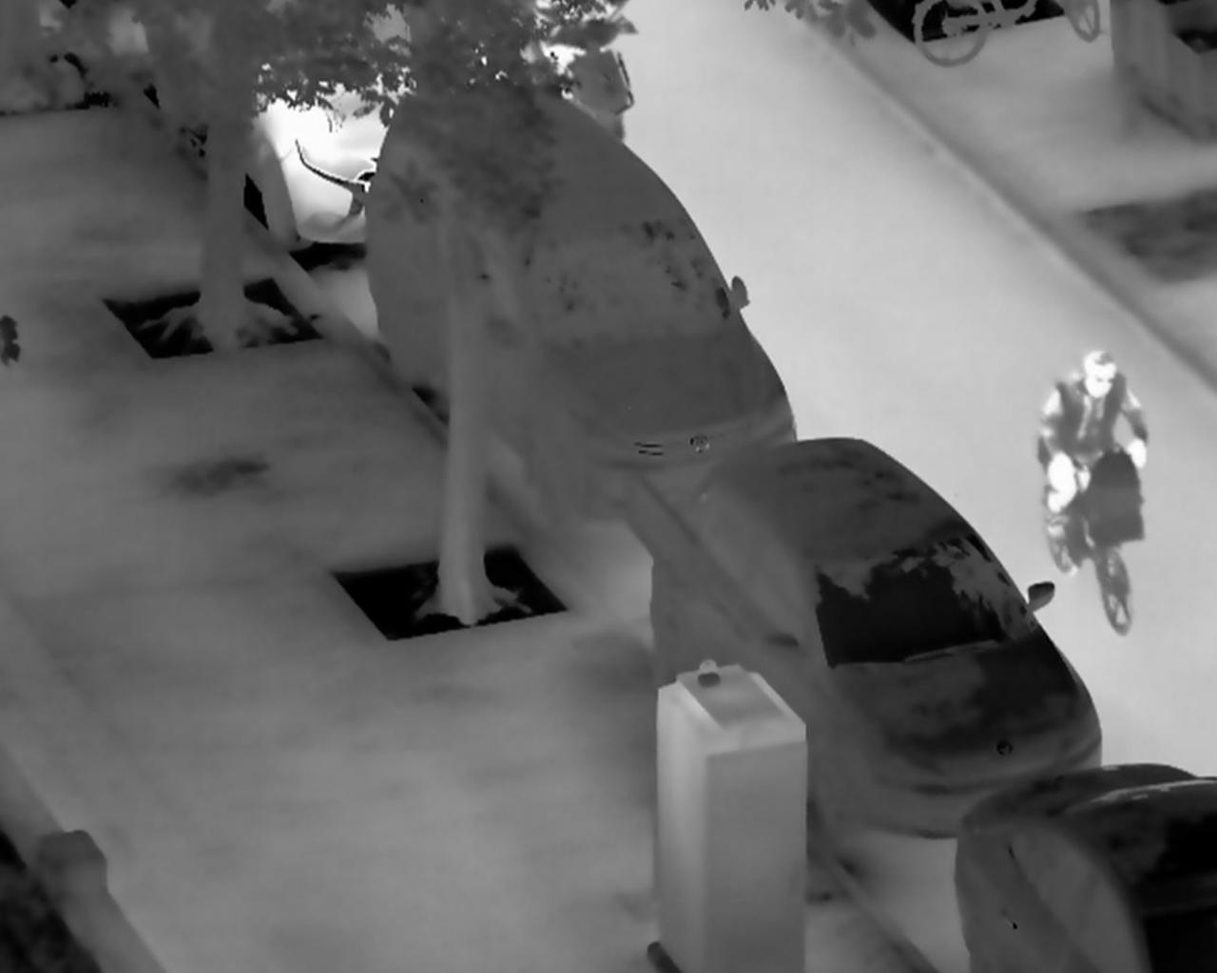person: (1037, 350, 1150, 553)
